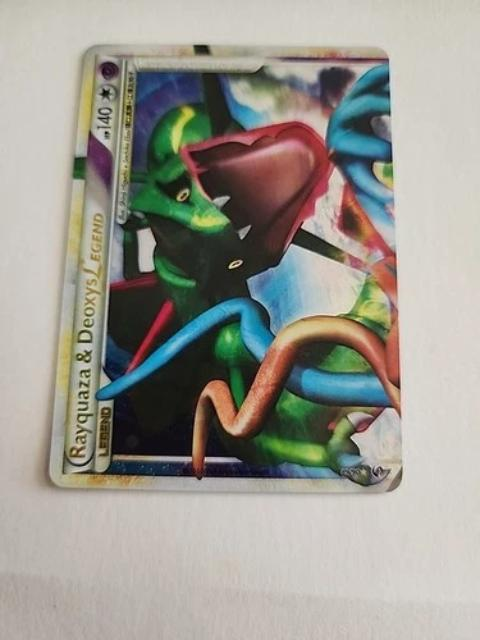Card: (45, 40, 406, 497)
Name: (63, 203, 110, 463)
